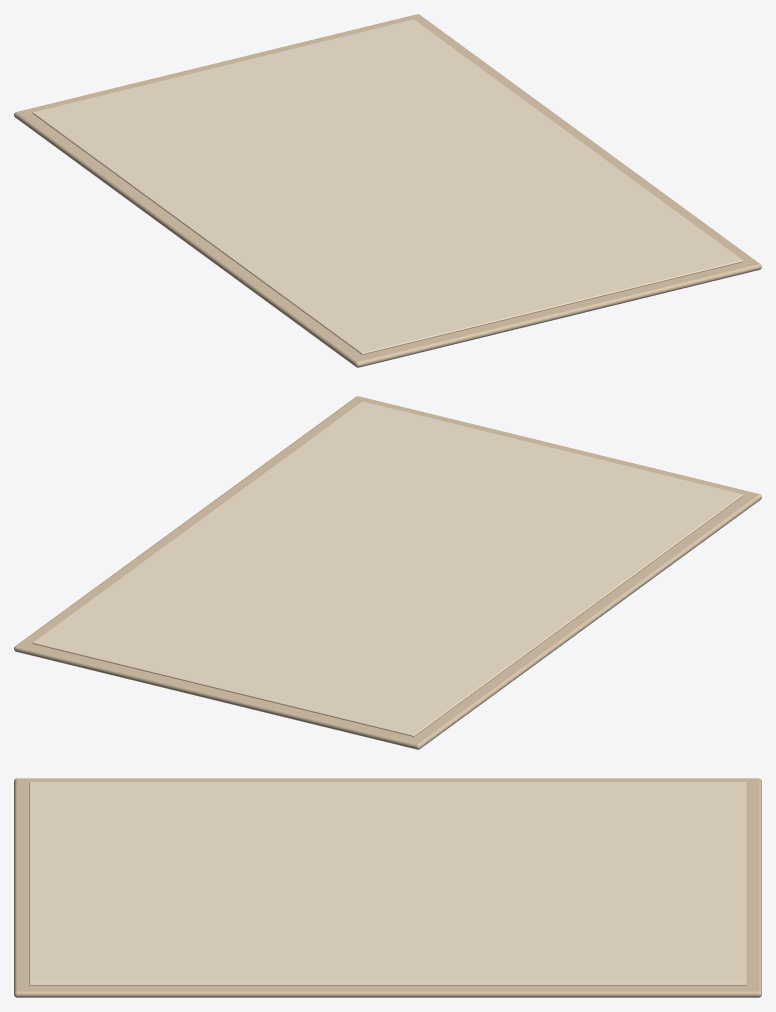
The model's file is ikea-stoense.glb.
3 renders of one model, top to bottom at view 1: azimuth 30°, elevation 25°; view 2: azimuth 150°, elevation 25°; view 3: azimuth 270°, elevation 25°, orthographic. The views are drawn at different scales.
Visible parts, largest first — view 1: accent, primary; view 2: accent, primary; view 3: accent, primary.
Part boxes in pixels (x1,y1,x2,y2): accent: [32, 19, 743, 354]; primary: [14, 14, 761, 367]; accent: [32, 401, 743, 736]; primary: [14, 396, 761, 749]; accent: [29, 782, 746, 985]; primary: [14, 778, 761, 997].
Bounding box in the file's own units: 1.33 × 0.024 × 1.95.
